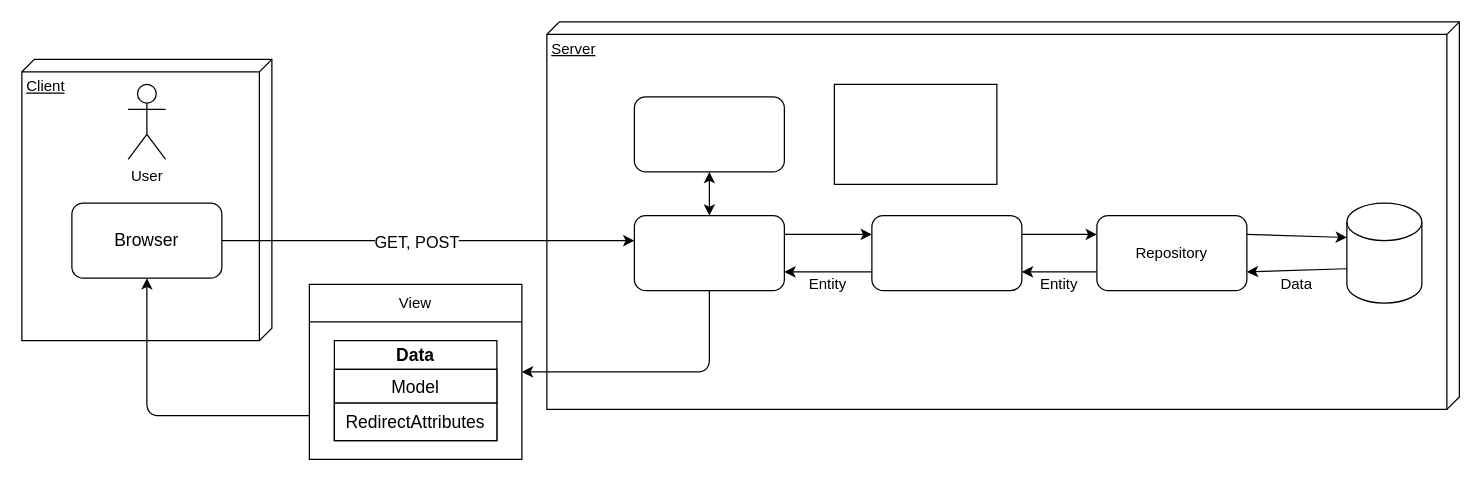
The diagram is 1481 pixels wide and 481 high, and some of its shapes have lost their labels. The shapes that lost their labels are listed below. From the top down, each one's centre as x and y in pixels, then its label:
At point (708, 134): "Session".
At point (915, 133): "Entity PK id Entity's Field fieldname".
At point (708, 252): "Controller".
At point (946, 252): "Service".
At point (1384, 252): "MySQL DB".
